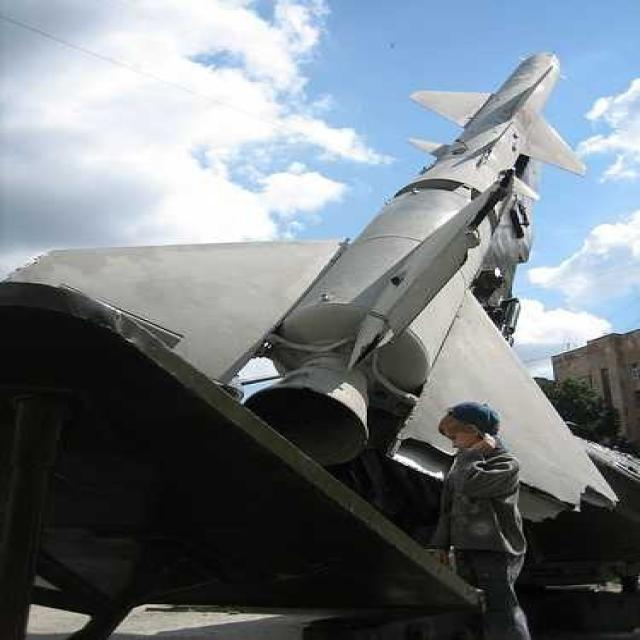missile: (0, 46, 621, 518)
